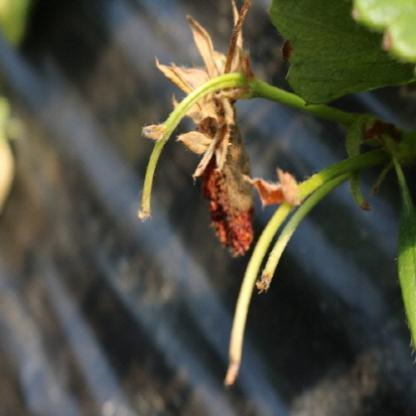Strawberry_Gray_Mold: (156, 17, 256, 262)
